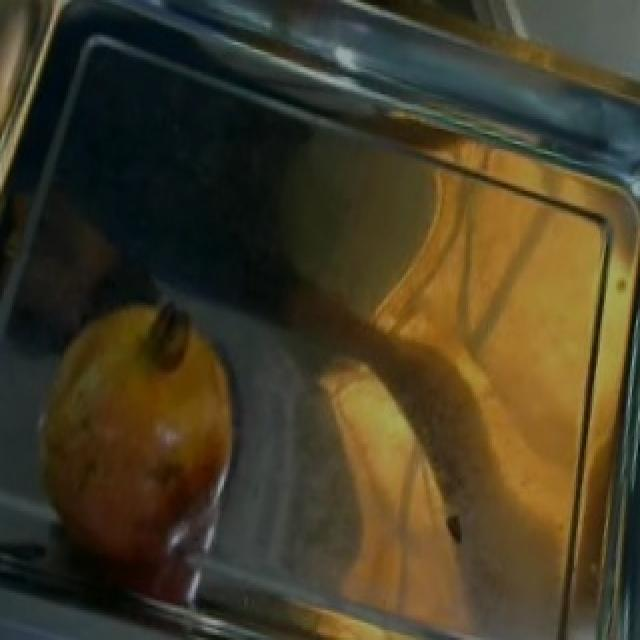fruit: (8, 273, 274, 570)
